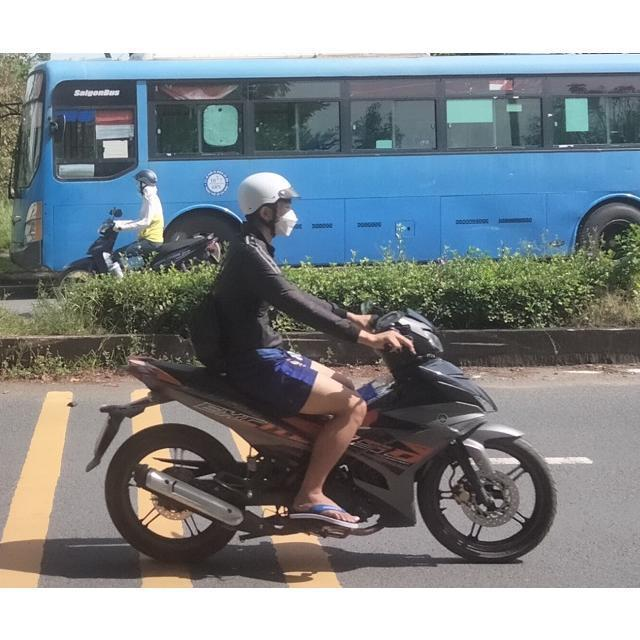Helmet: (236, 170, 304, 242), (134, 167, 158, 193)
